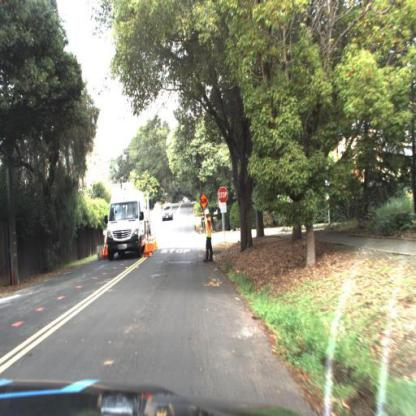car: (105, 182, 159, 261), (161, 204, 176, 227), (160, 202, 175, 224)
pedestrian: (200, 201, 214, 269)
